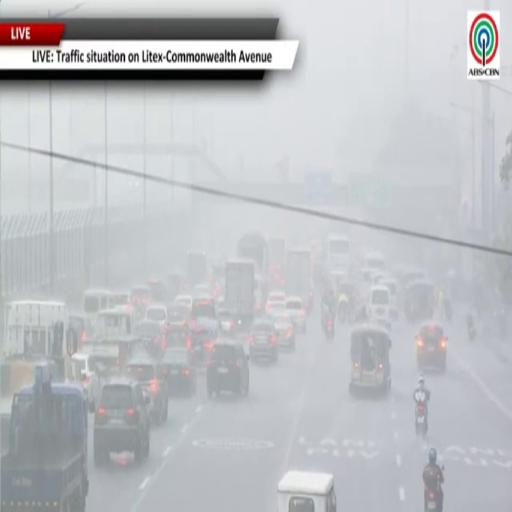car: (93, 377, 150, 465), (126, 357, 168, 424), (207, 341, 249, 397), (72, 352, 101, 411), (162, 347, 196, 395), (416, 322, 447, 372), (249, 317, 278, 362), (191, 317, 218, 363), (136, 320, 166, 355), (273, 313, 296, 349), (166, 323, 192, 353), (69, 314, 94, 345), (191, 296, 216, 326), (286, 297, 306, 332), (131, 285, 151, 314), (167, 303, 190, 324), (218, 308, 235, 335), (148, 278, 167, 302), (266, 291, 285, 313), (145, 304, 167, 322), (111, 292, 133, 308), (193, 282, 213, 297), (174, 295, 193, 310), (266, 301, 285, 315)
motorcycle: (415, 405, 427, 439), (426, 489, 440, 511), (467, 315, 476, 341), (426, 490, 437, 511), (325, 316, 334, 340), (338, 306, 348, 324), (445, 300, 452, 323), (468, 326, 476, 341)
truck: (0, 363, 88, 511), (2, 300, 77, 414), (224, 260, 254, 332), (286, 248, 313, 311), (237, 232, 269, 278), (268, 237, 286, 289), (186, 251, 208, 289)
